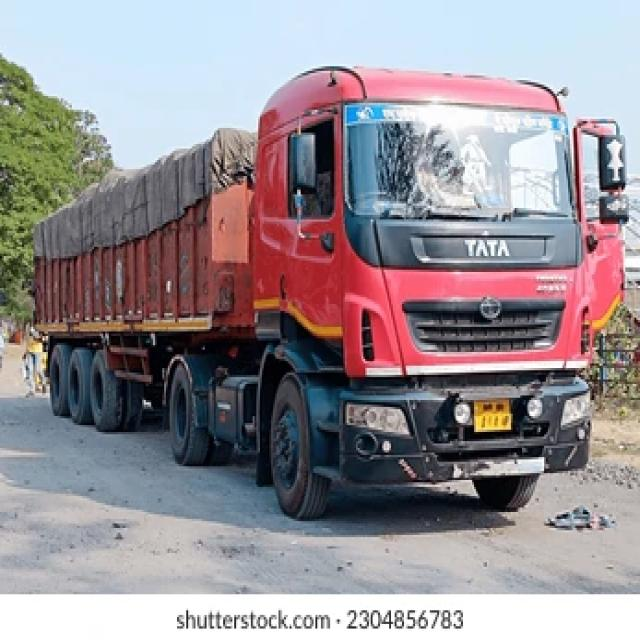Vehicles: (17, 51, 640, 530)
